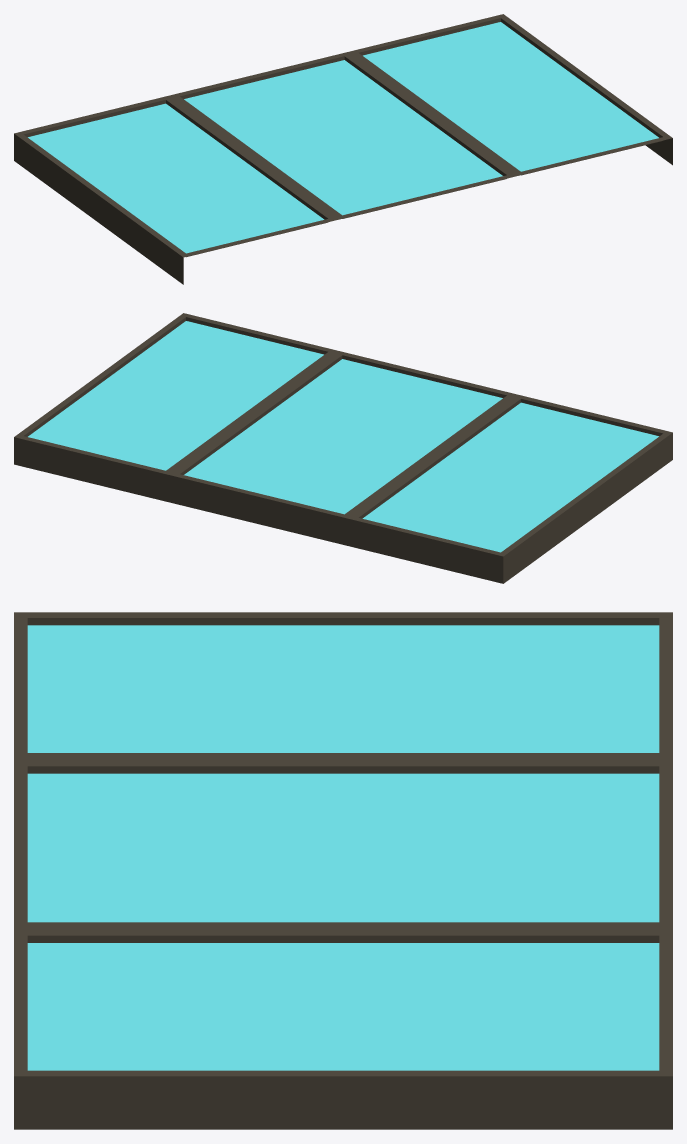
The model's file is P_F_OLDType3SansBF.fbx.
3 views of the same model, one above another, from view 1: azimuth 30°, elevation 25°; view 2: azimuth 150°, elevation 25°; view 3: azimuth 270°, elevation 25° (orthographic). The views are drawn at different scales.
Parts seen in each view (by area): view 1: P_F_OLDType3SansBF; view 2: P_F_OLDType3SansBF; view 3: P_F_OLDType3SansBF.
Part boxes in pixels (<box>): P_F_OLDType3SansBF: <box>14,14,672,284</box>; P_F_OLDType3SansBF: <box>14,313,672,583</box>; P_F_OLDType3SansBF: <box>14,612,672,1129</box>.
Size of the model in its own units: 650 by 34.77 by 390.
